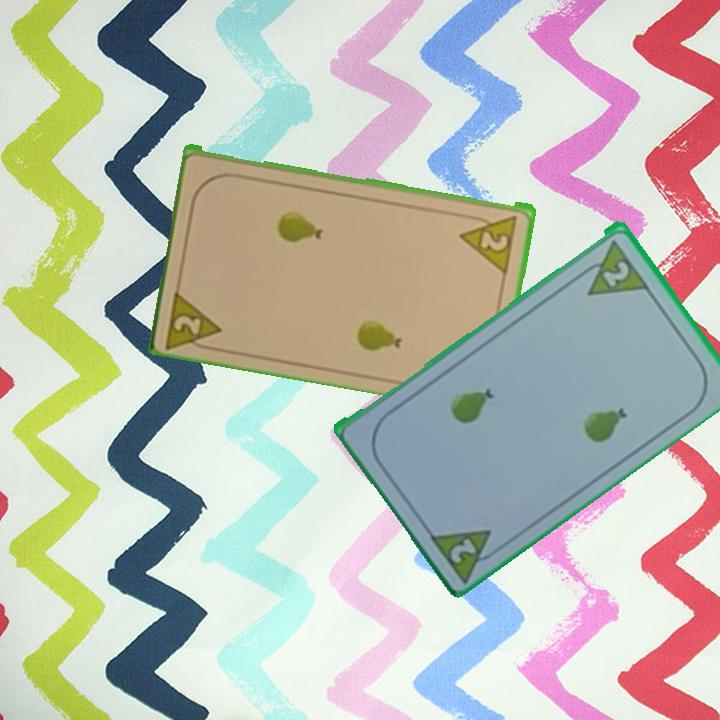2p: (162, 283, 226, 354), (457, 211, 521, 274), (598, 256, 633, 290), (446, 534, 480, 566)
